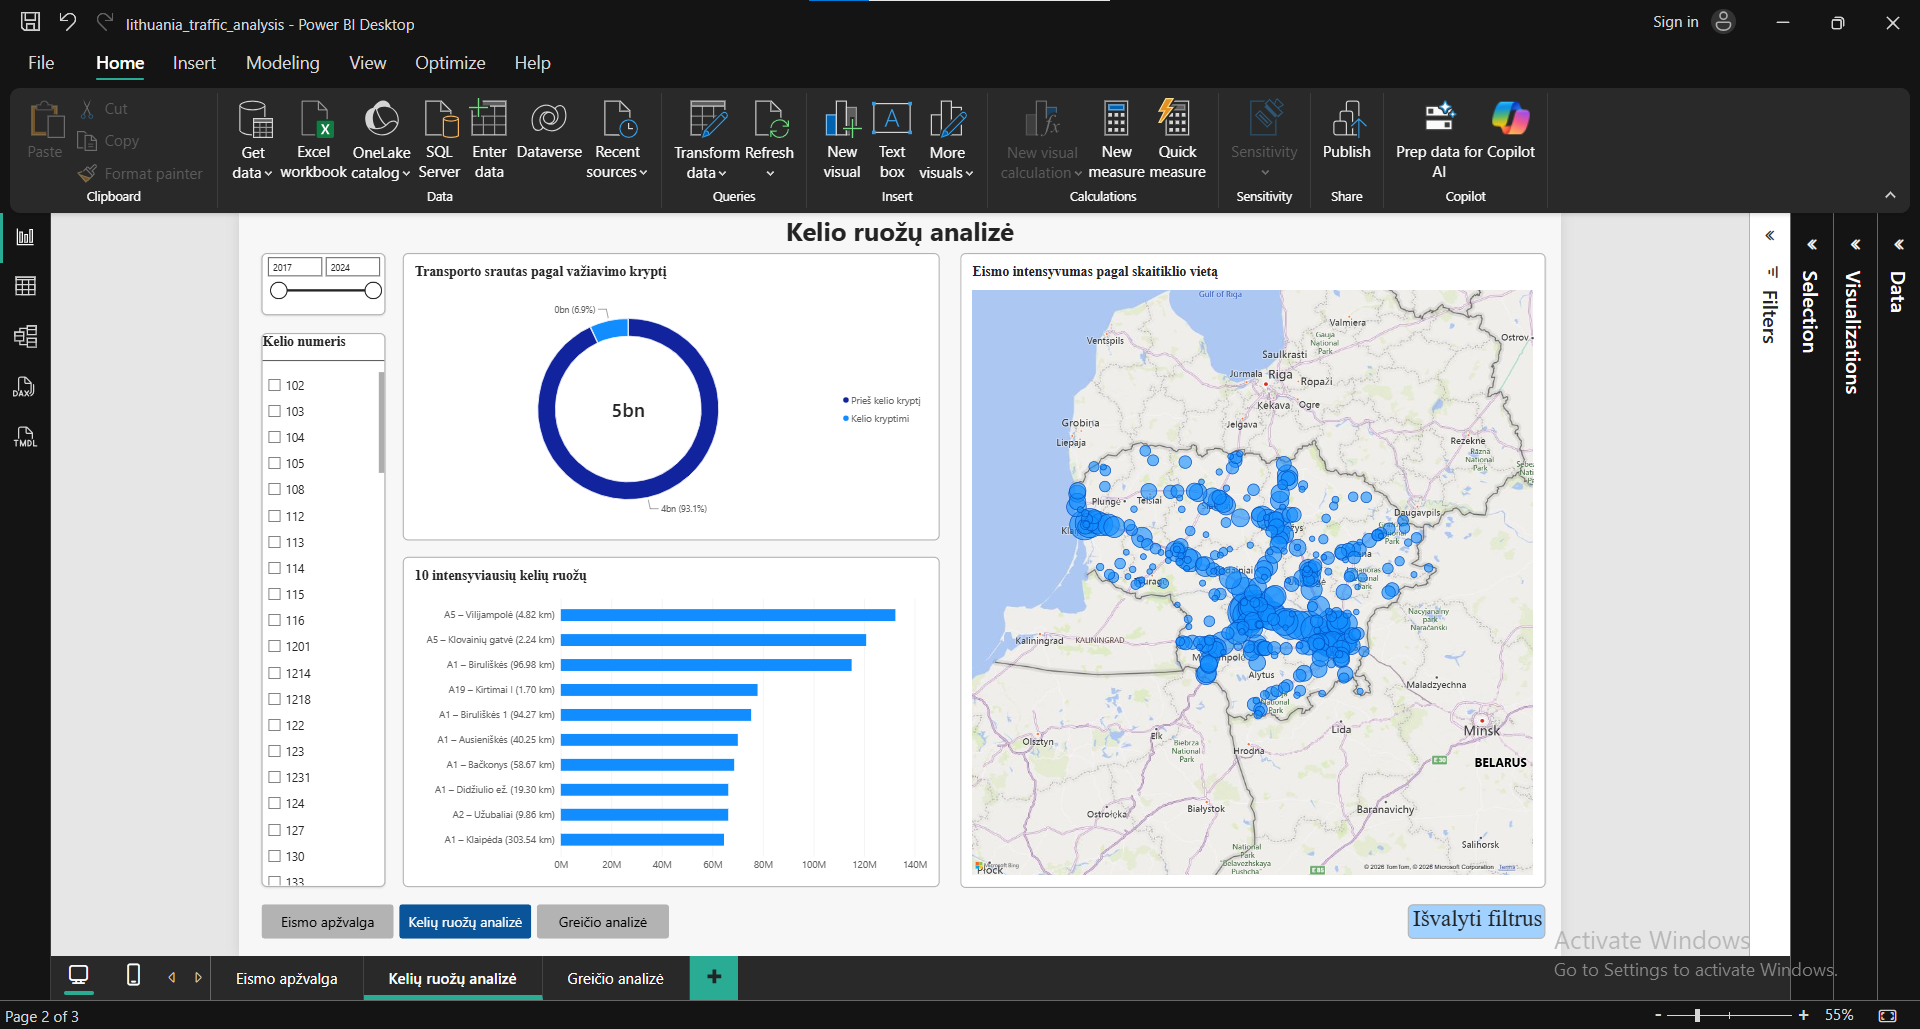

What the dashboard file says about the page in this screenshot:
{"tool":"powerbi","page":{"name":"Kelių ruožų analizė","canvas":[1920,1080],"ordinal":1},"visuals":[{"type":"clusteredBarChart","title":"10 intensyviausių kelių ruožų","fields":{"Category":["Dim Road Segment.Kelio ruožas"],"Y":["Fact Daily Traffic.Bendras transporto kiekis"]},"box":[237.5,500,780,480],"z":2},{"type":"map","title":"Eismo intensyvumas pagal skaitiklio vietą","fields":{"Size":["Fact Daily Traffic.Bendras transporto kiekis"],"X":["Dim Road Segment.longitude"],"Y":["Dim Road Segment.latitude"]},"box":[1047.5,57.5,850,922.5],"z":3},{"type":"donutChart","title":"Transporto srautas pagal važiavimo kryptį","fields":{"Category":["Fact Daily Traffic.travel_direction_name"],"Y":["Fact Daily Traffic.Bendras transporto kiekis"]},"box":[237.5,57.5,780,417.5],"z":4},{"type":"actionButton","title":"Išvalyti filtrus","box":[1697.5,1005,200,50],"z":7},{"type":"pageNavigator","box":[32.5,1005,594,50],"z":8},{"type":"slicer","fields":{"Values":["Dim Date.calendar_year"]},"box":[32.5,57.5,180,90],"z":9},{"type":"textbox","box":[0,0,1920,57.5],"z":10},{"type":"slicer","title":"Kelio numeris","fields":{"Values":["Dim Road Segment.road_number"]},"box":[32.5,175,180,805],"z":11}]}

Visuals, with their boxes on the page's 1920x1080 design canvas (x1, y1, x2, y2). These are canvas units, not pixel positions in the 1920x1029 screenshot, which may show the page scaled, cropped or inside an application window:
"10 intensyviausių kelių ruožų" clusteredBarChart: {"left": 238, "top": 500, "right": 1018, "bottom": 980}
"Eismo intensyvumas pagal skaitiklio vietą" map: {"left": 1048, "top": 58, "right": 1898, "bottom": 980}
"Transporto srautas pagal važiavimo kryptį" donutChart: {"left": 238, "top": 58, "right": 1018, "bottom": 475}
"Išvalyti filtrus" actionButton: {"left": 1698, "top": 1005, "right": 1898, "bottom": 1055}
pageNavigator: {"left": 32, "top": 1005, "right": 626, "bottom": 1055}
slicer - Dim Date.calendar_year: {"left": 32, "top": 58, "right": 212, "bottom": 148}
textbox: {"left": 0, "top": 0, "right": 1920, "bottom": 58}
"Kelio numeris" slicer: {"left": 32, "top": 175, "right": 212, "bottom": 980}
